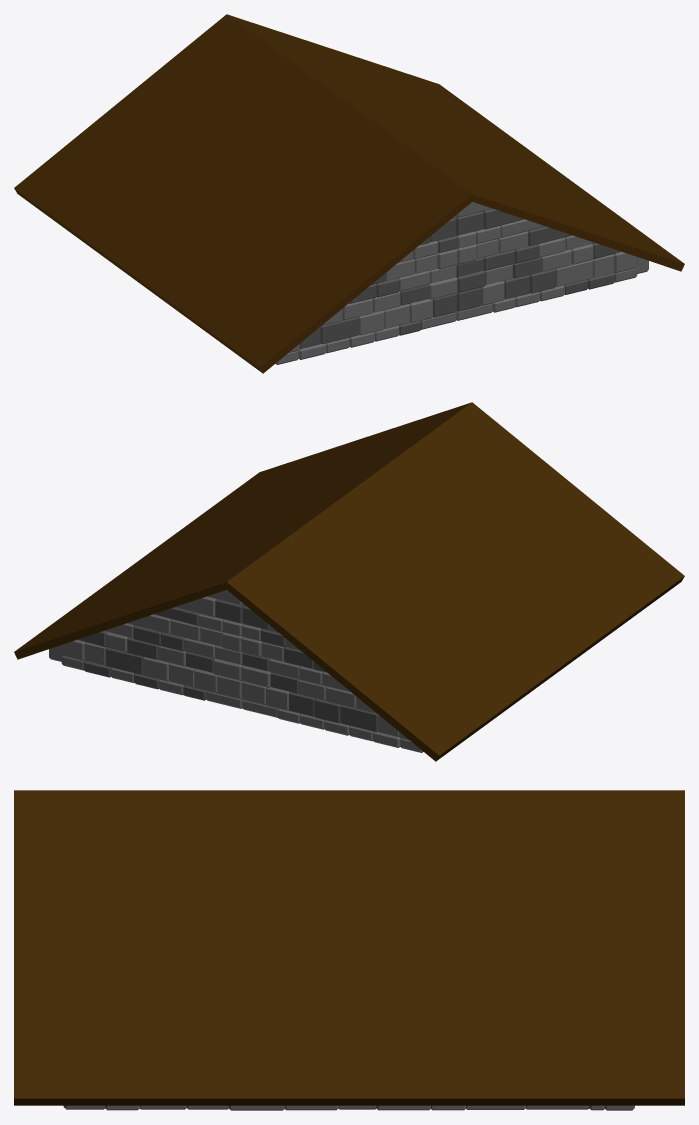
Rendered from roof 1.fbx.
3 renders of one model, top to bottom at view 1: azimuth 30°, elevation 25°; view 2: azimuth 150°, elevation 25°; view 3: azimuth 270°, elevation 25°, orthographic. The views are drawn at different scales.
Visible parts, largest first — view 1: roof 1; view 2: roof 1; view 3: roof 1.
Part boxes in pixels (x1,y1,x2,y2): roof 1: (14, 14, 684, 373); roof 1: (14, 402, 684, 761); roof 1: (14, 790, 684, 1110).
Size of the model in its own units: 2358 by 737 by 2358.
